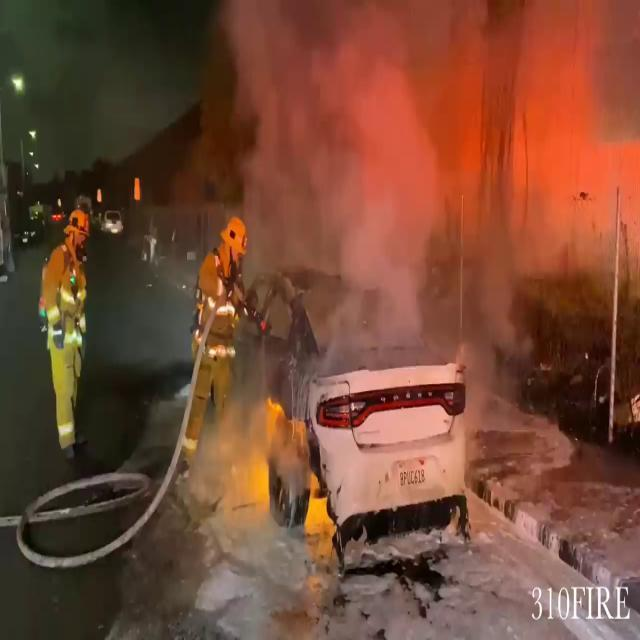Smoke: (220, 0, 640, 340)
